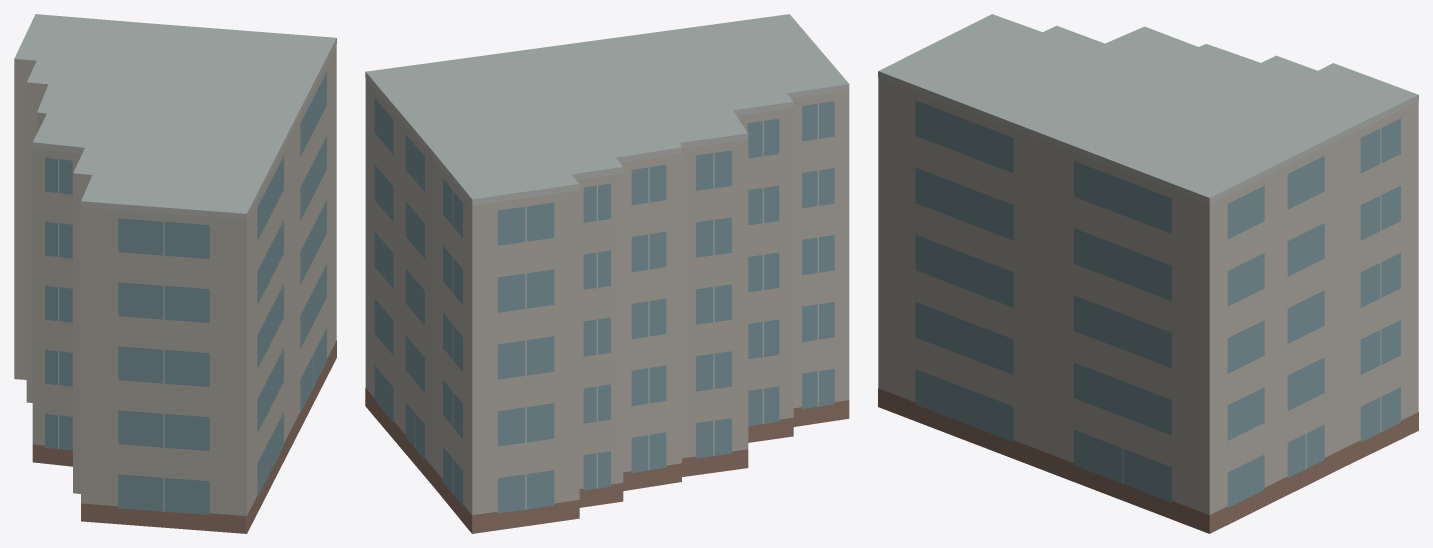
File: survey-upis-32947189.glb
The picture shows the model from 3 angles, left to right: view 1: azimuth 30°, elevation 25°; view 2: azimuth 150°, elevation 25°; view 3: azimuth 270°, elevation 25°; orthographic projection. The views are drawn at different scales.
Visible parts, largest first — view 1: survey-upis-32947189.tmp; view 2: survey-upis-32947189.tmp; view 3: survey-upis-32947189.tmp.
Part boxes in pixels (x1,y1,x2,y2): survey-upis-32947189.tmp: (14,14,336,533); survey-upis-32947189.tmp: (365,14,849,533); survey-upis-32947189.tmp: (878,14,1418,533).
Bounding box in the file's own units: 15.4 × 13.1 × 19.11.
